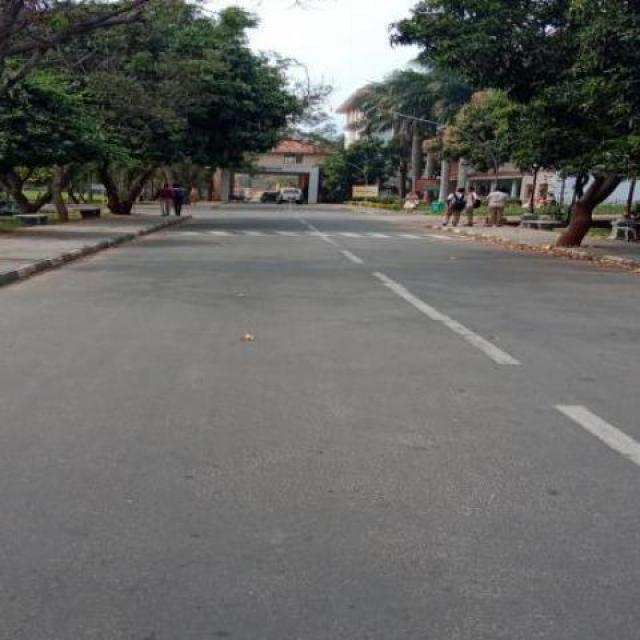Pothole: (579, 376, 597, 383), (488, 334, 500, 342), (456, 388, 468, 396), (548, 488, 558, 496)
Speed Bump: (152, 230, 476, 238)
